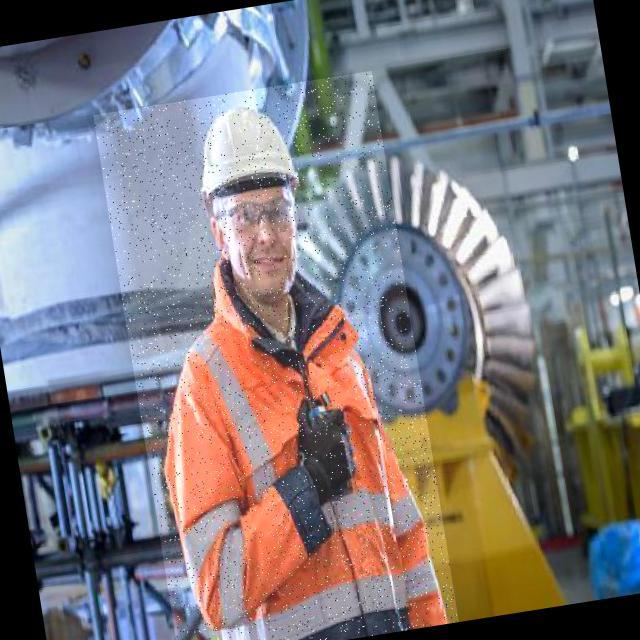Gloves: (276, 384, 367, 528)
Helmet: (187, 96, 302, 207)
Person: (73, 75, 479, 640)
Safety Vest: (134, 231, 448, 640)
